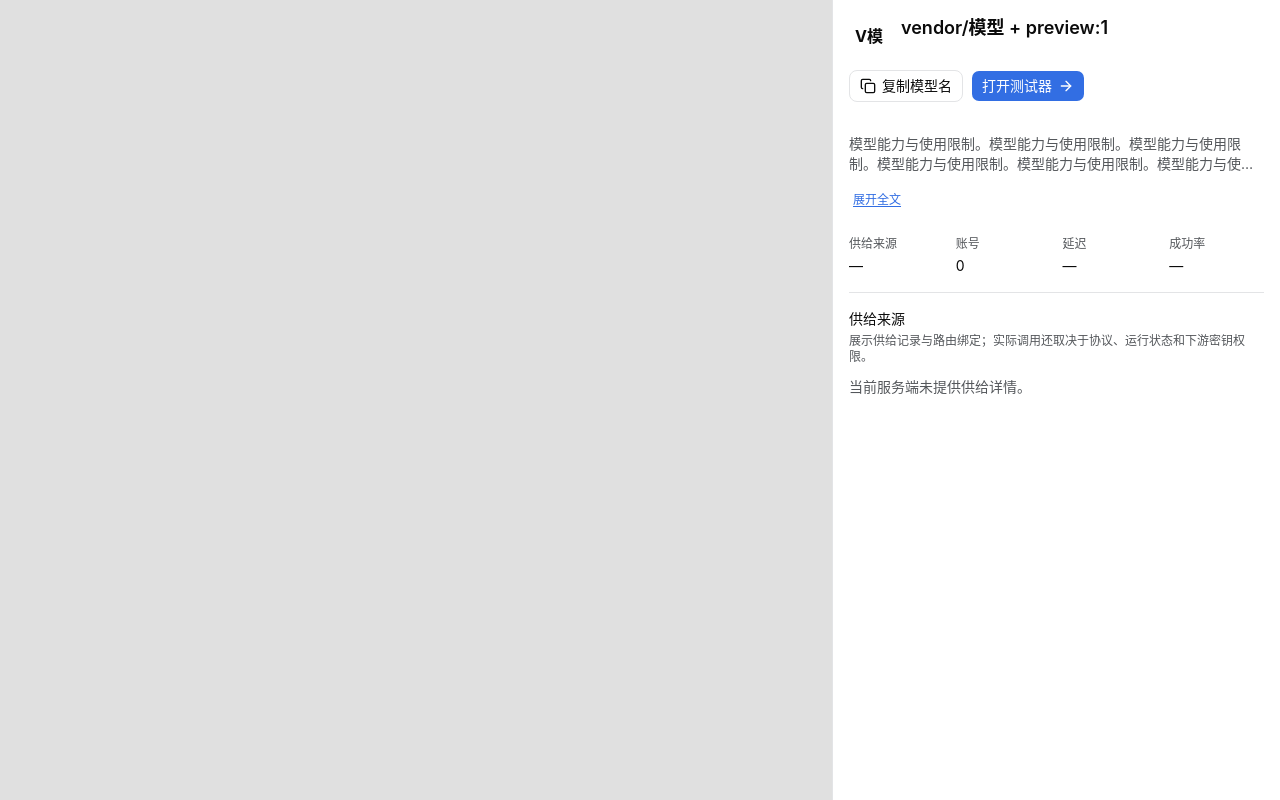
Scenario: lets readers expand and collapse long descriptions
What coordinates should you click on to do the following:
click the button "展开全文"
I would click on:
 (877, 200)
Its box is [849, 180, 905, 220].
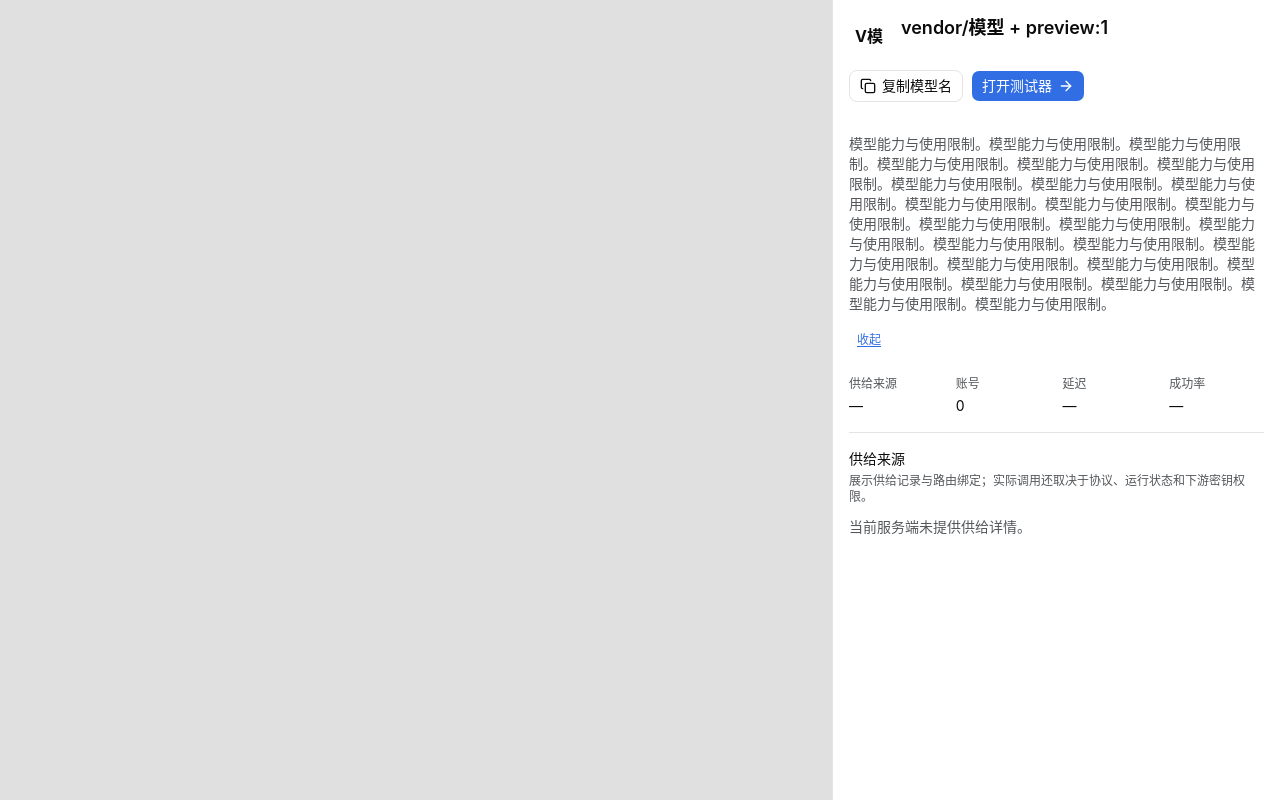
Check: the button "收起" is expanded, box [849, 320, 889, 360]
